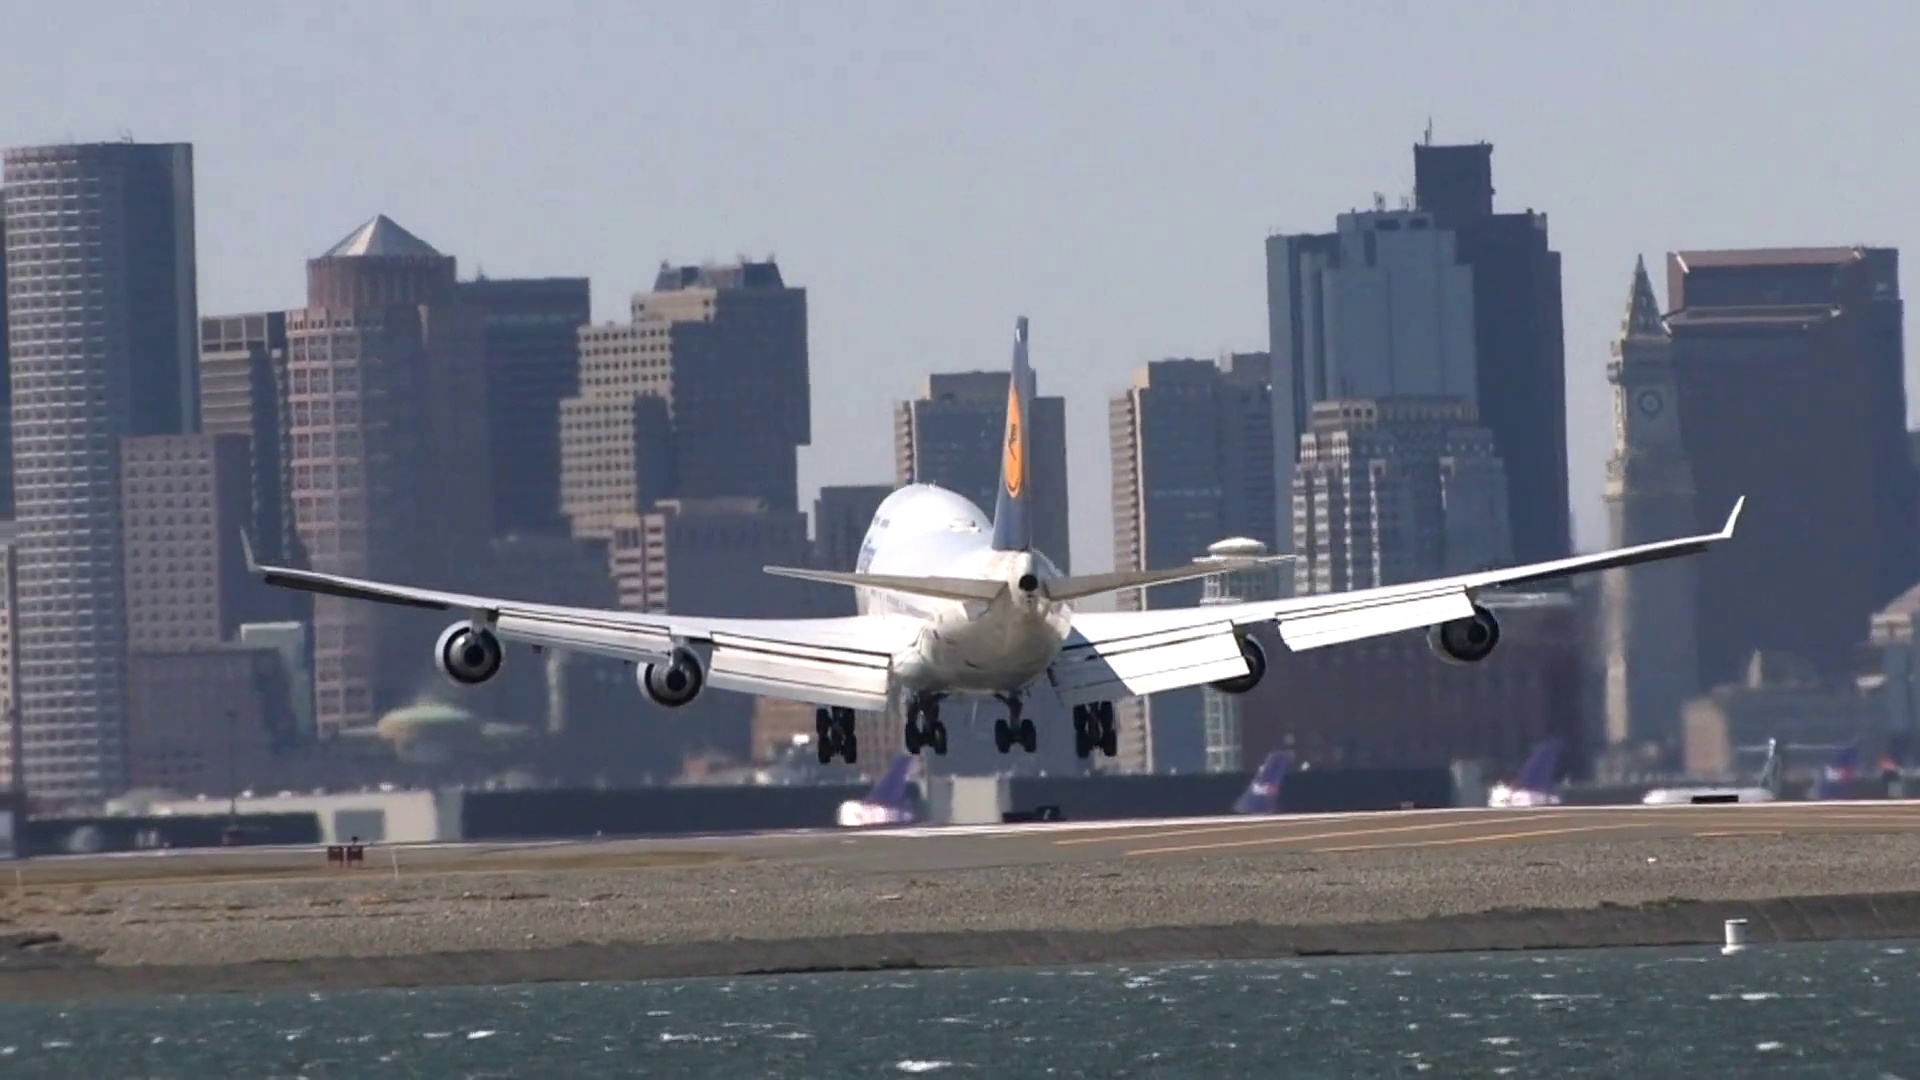plane: (237, 316, 1747, 764)
